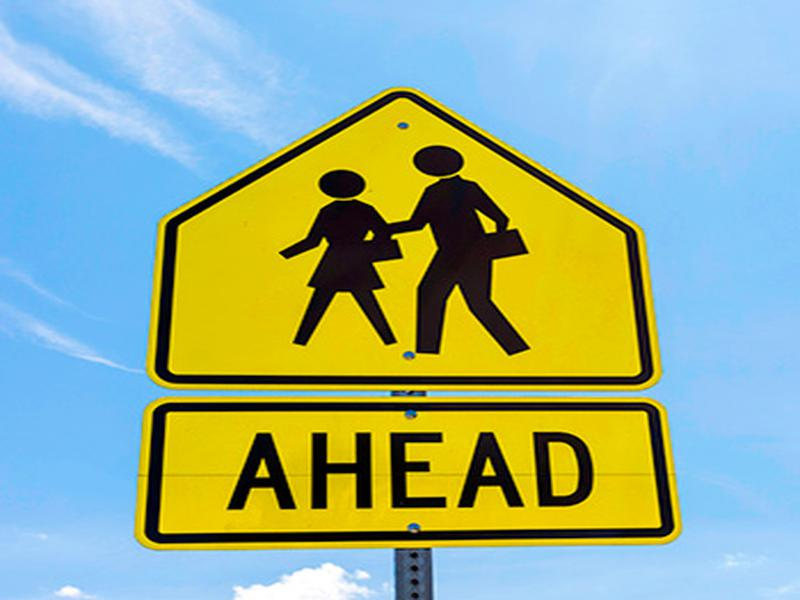slow: (140, 84, 666, 398)
